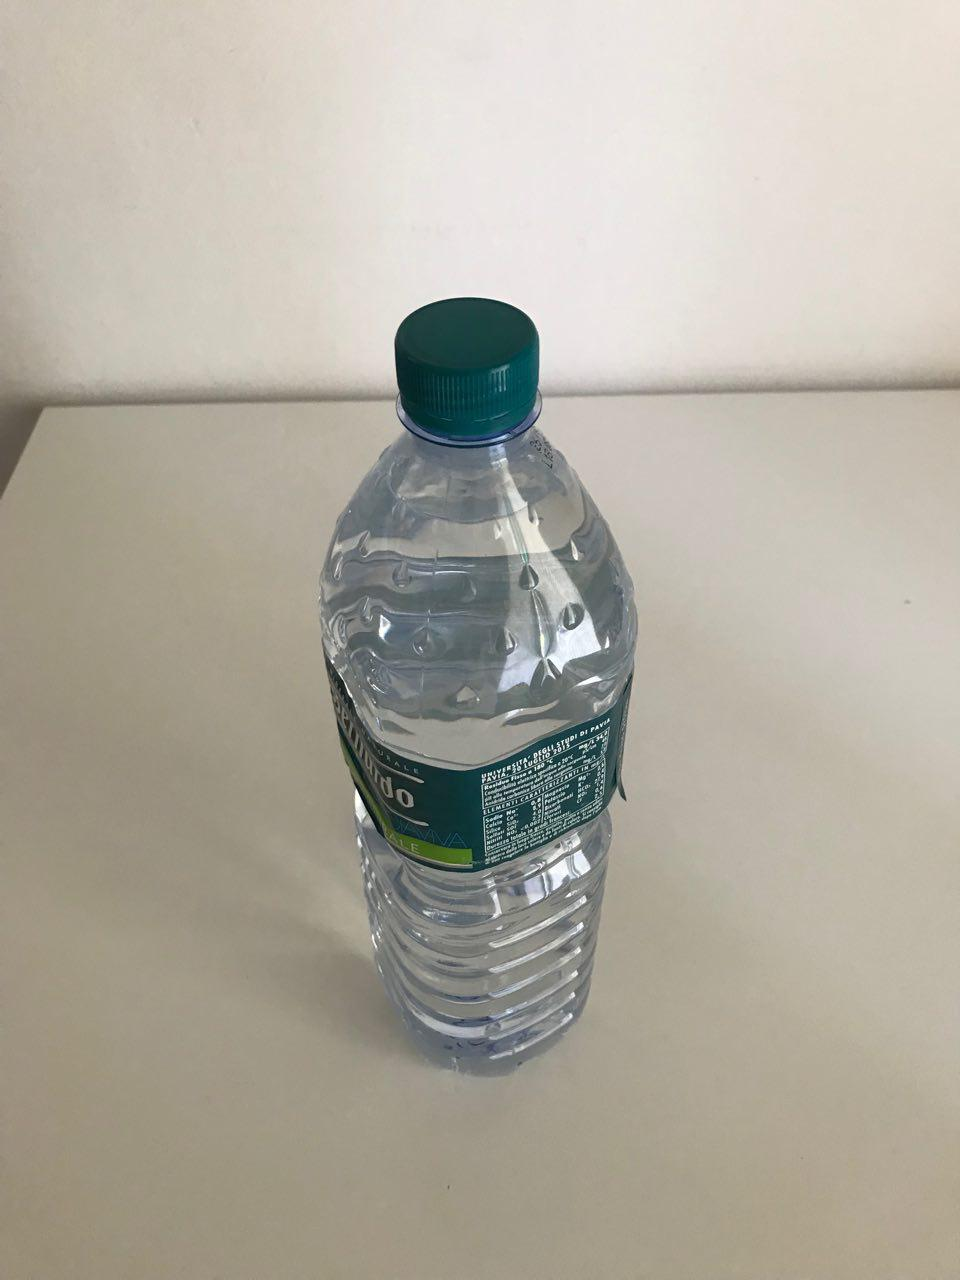san_bernardo: (316, 296, 640, 1081)
